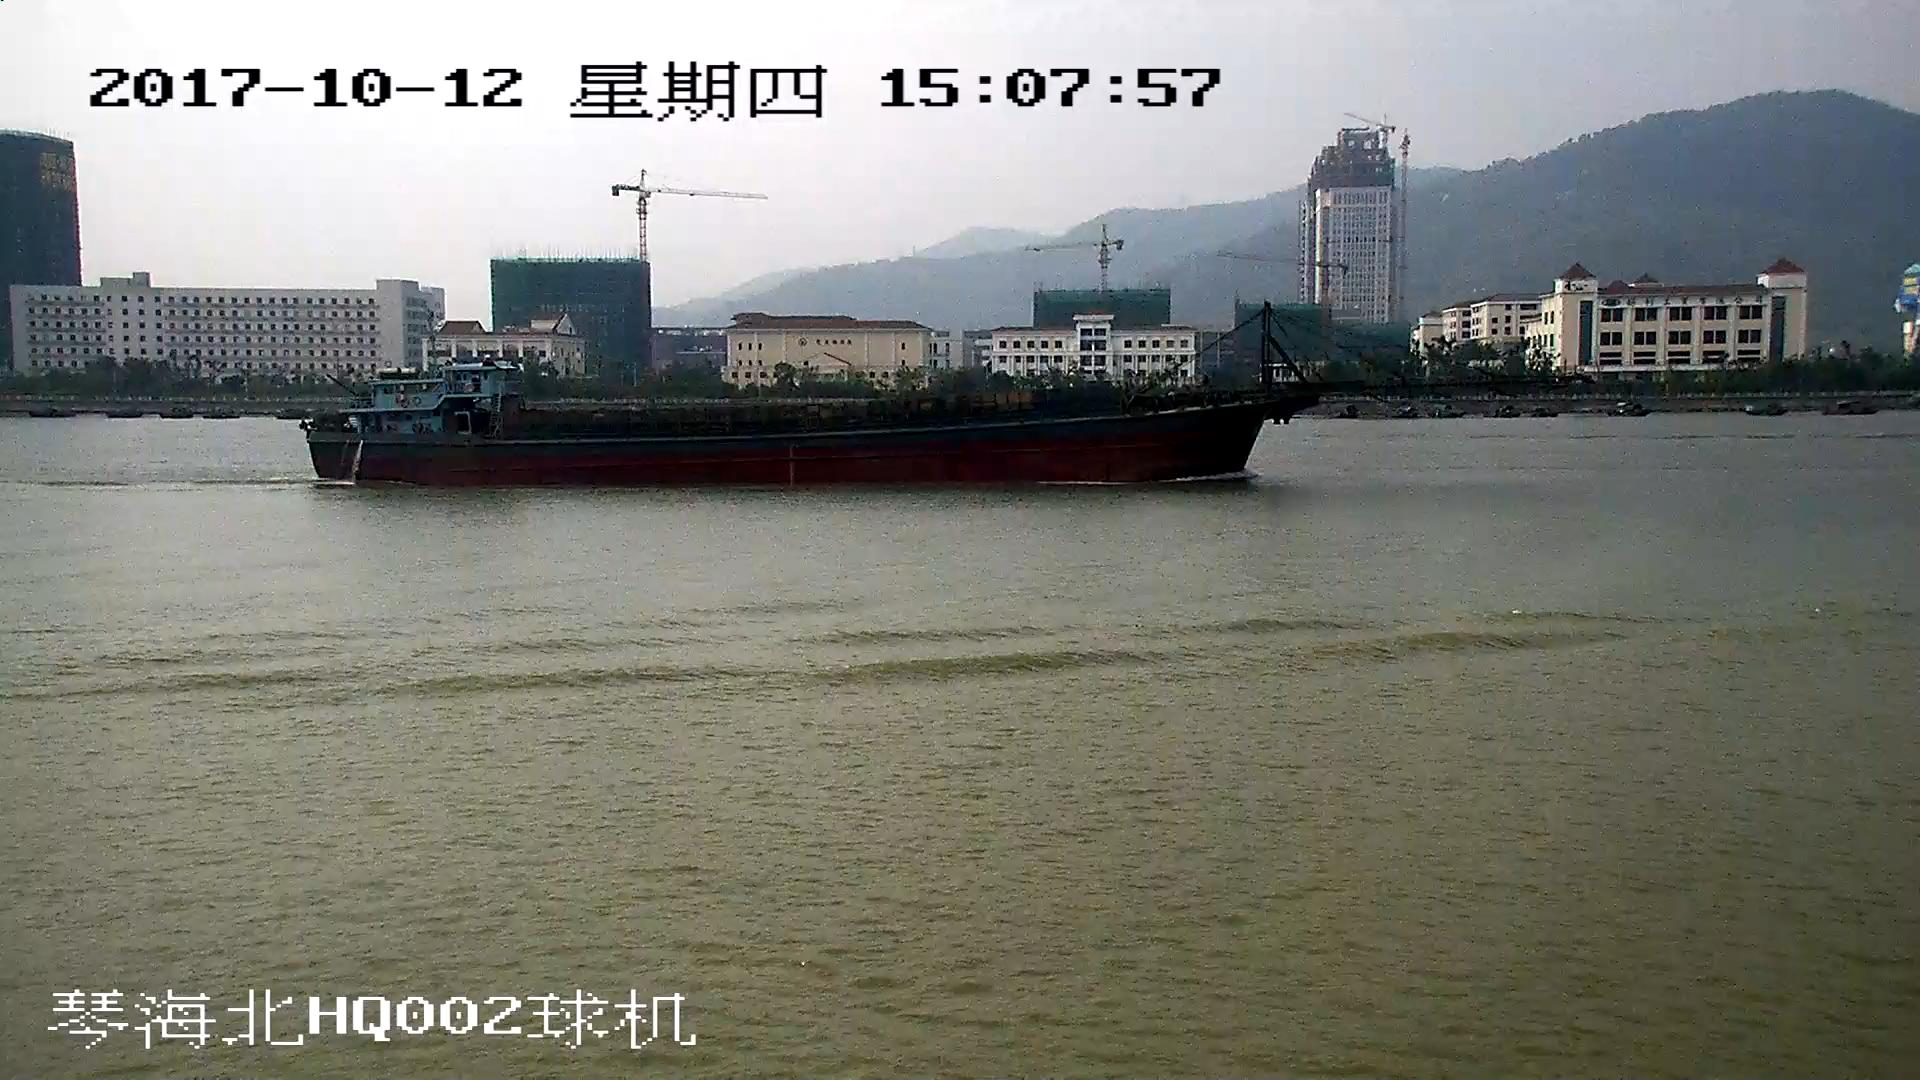bulk cargo carrier: (306, 300, 1437, 484)
